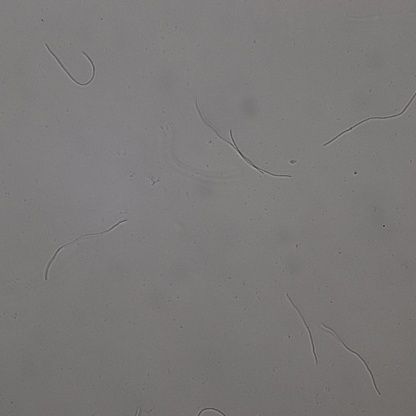Sensitive: (195, 99, 290, 177), (44, 220, 126, 278), (324, 94, 416, 145), (324, 326, 382, 395), (286, 293, 318, 363), (47, 44, 96, 86), (196, 407, 226, 416)
